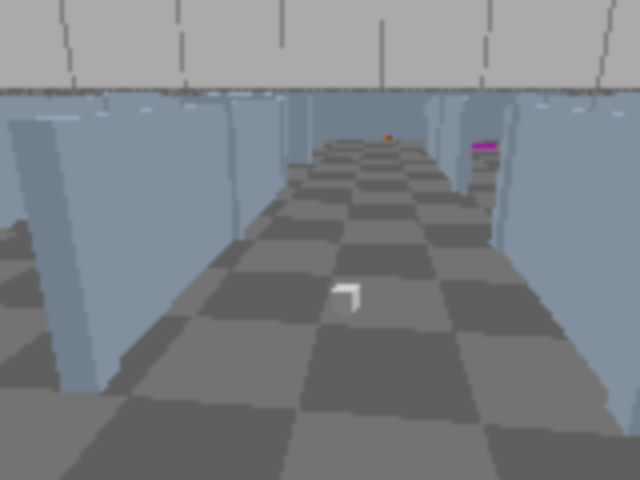puck: (332, 283, 359, 316)
